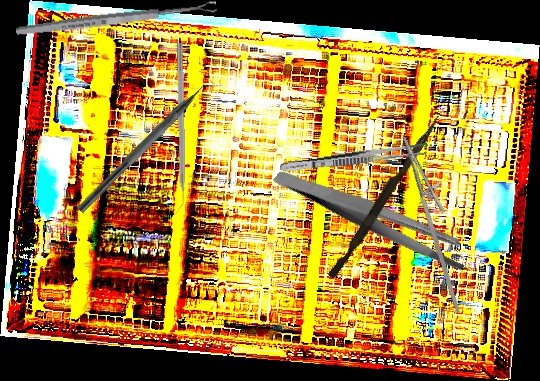Chopper: (76, 71, 225, 223), (168, 43, 186, 216)
Dressing Forceps: (271, 125, 476, 309), (279, 140, 426, 176)
Needle Holder: (381, 129, 494, 315)
Pusher: (327, 111, 442, 282)
Surgical Spoon: (15, 0, 218, 38)
